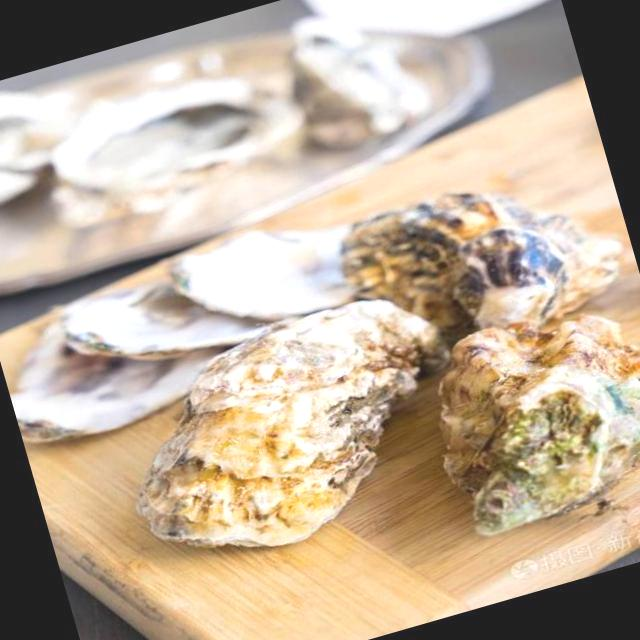Oyster-Closed: (129, 296, 444, 559), (434, 312, 640, 541), (334, 192, 622, 353)
Oyster-Open: (46, 62, 310, 235), (266, 0, 442, 170), (9, 317, 250, 440), (58, 271, 287, 354), (167, 222, 353, 317)
